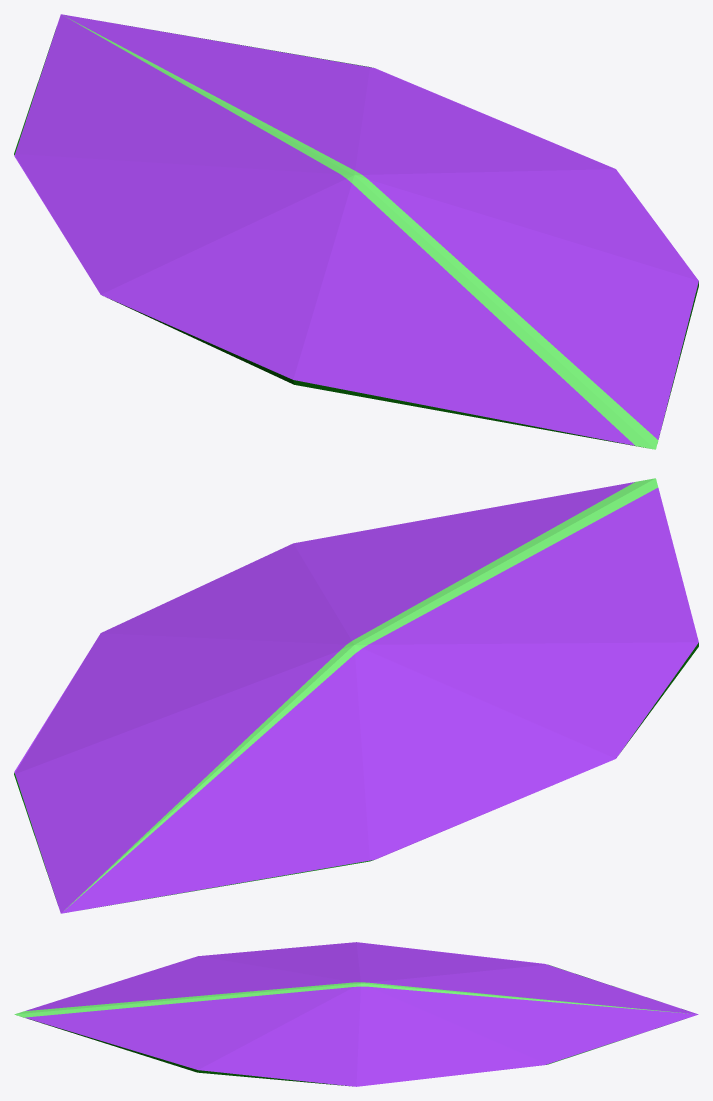
Rendered from PoisonLeaf.fbx.
3 renders of one model, top to bottom at view 1: azimuth 30°, elevation 25°; view 2: azimuth 150°, elevation 25°; view 3: azimuth 270°, elevation 25°, orthographic. The views are drawn at different scales.
Parts seen in each view (by area): view 1: Cube; view 2: Cube; view 3: Cube.
Boxes of the visible parts, x1=… form: Cube: x1=14, y1=14, x2=698, y2=449; Cube: x1=14, y1=478, x2=698, y2=913; Cube: x1=14, y1=942, x2=698, y2=1086.
Size of the model in its own units: 2 by 0.4 by 4.
